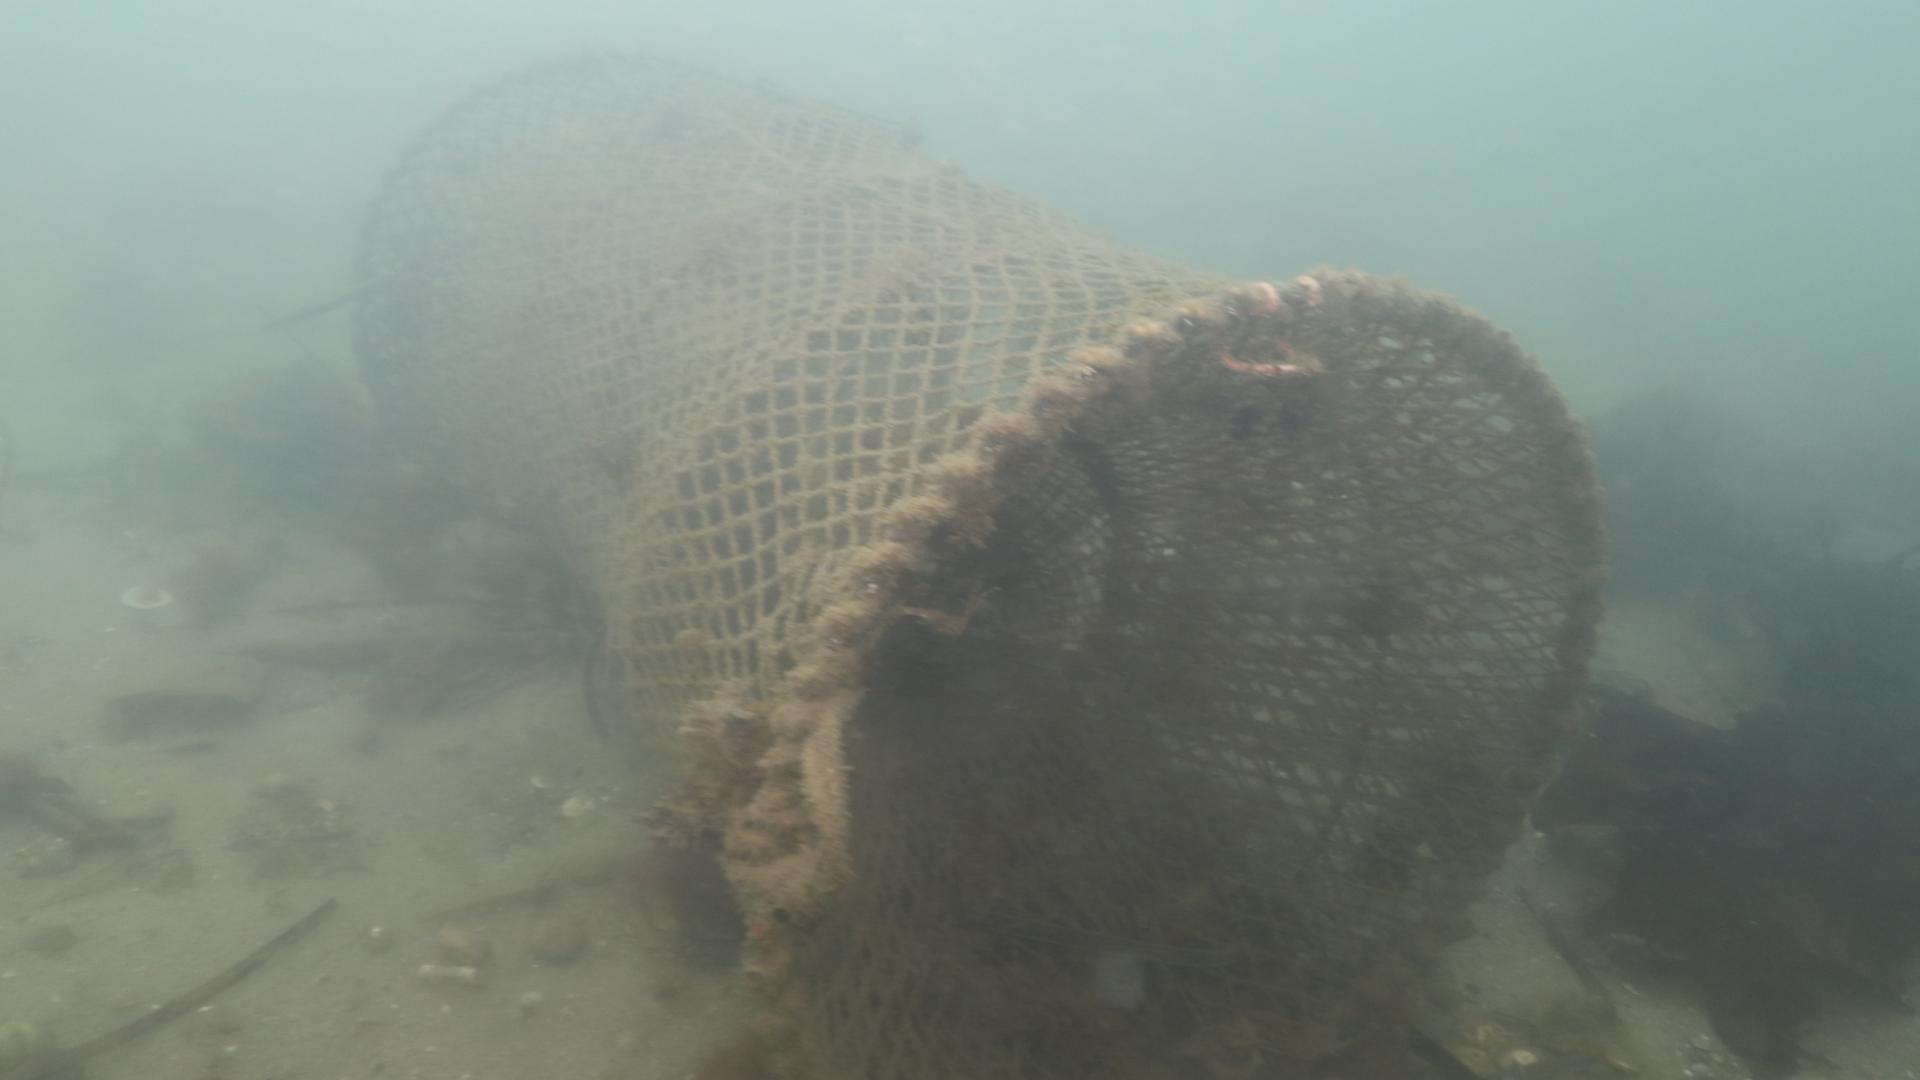spring fish trap: (342, 37, 1606, 1080)
